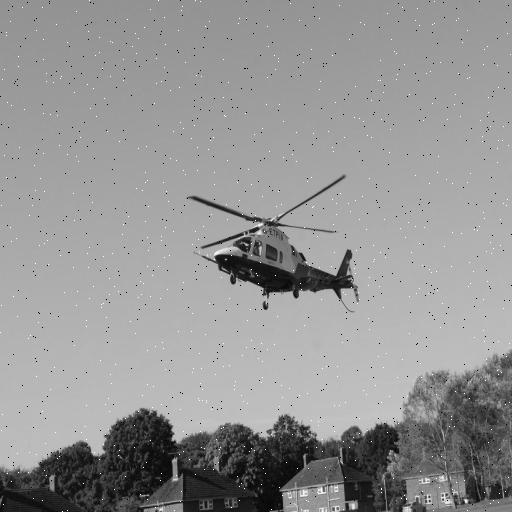helicopter: (194, 151, 371, 320)
